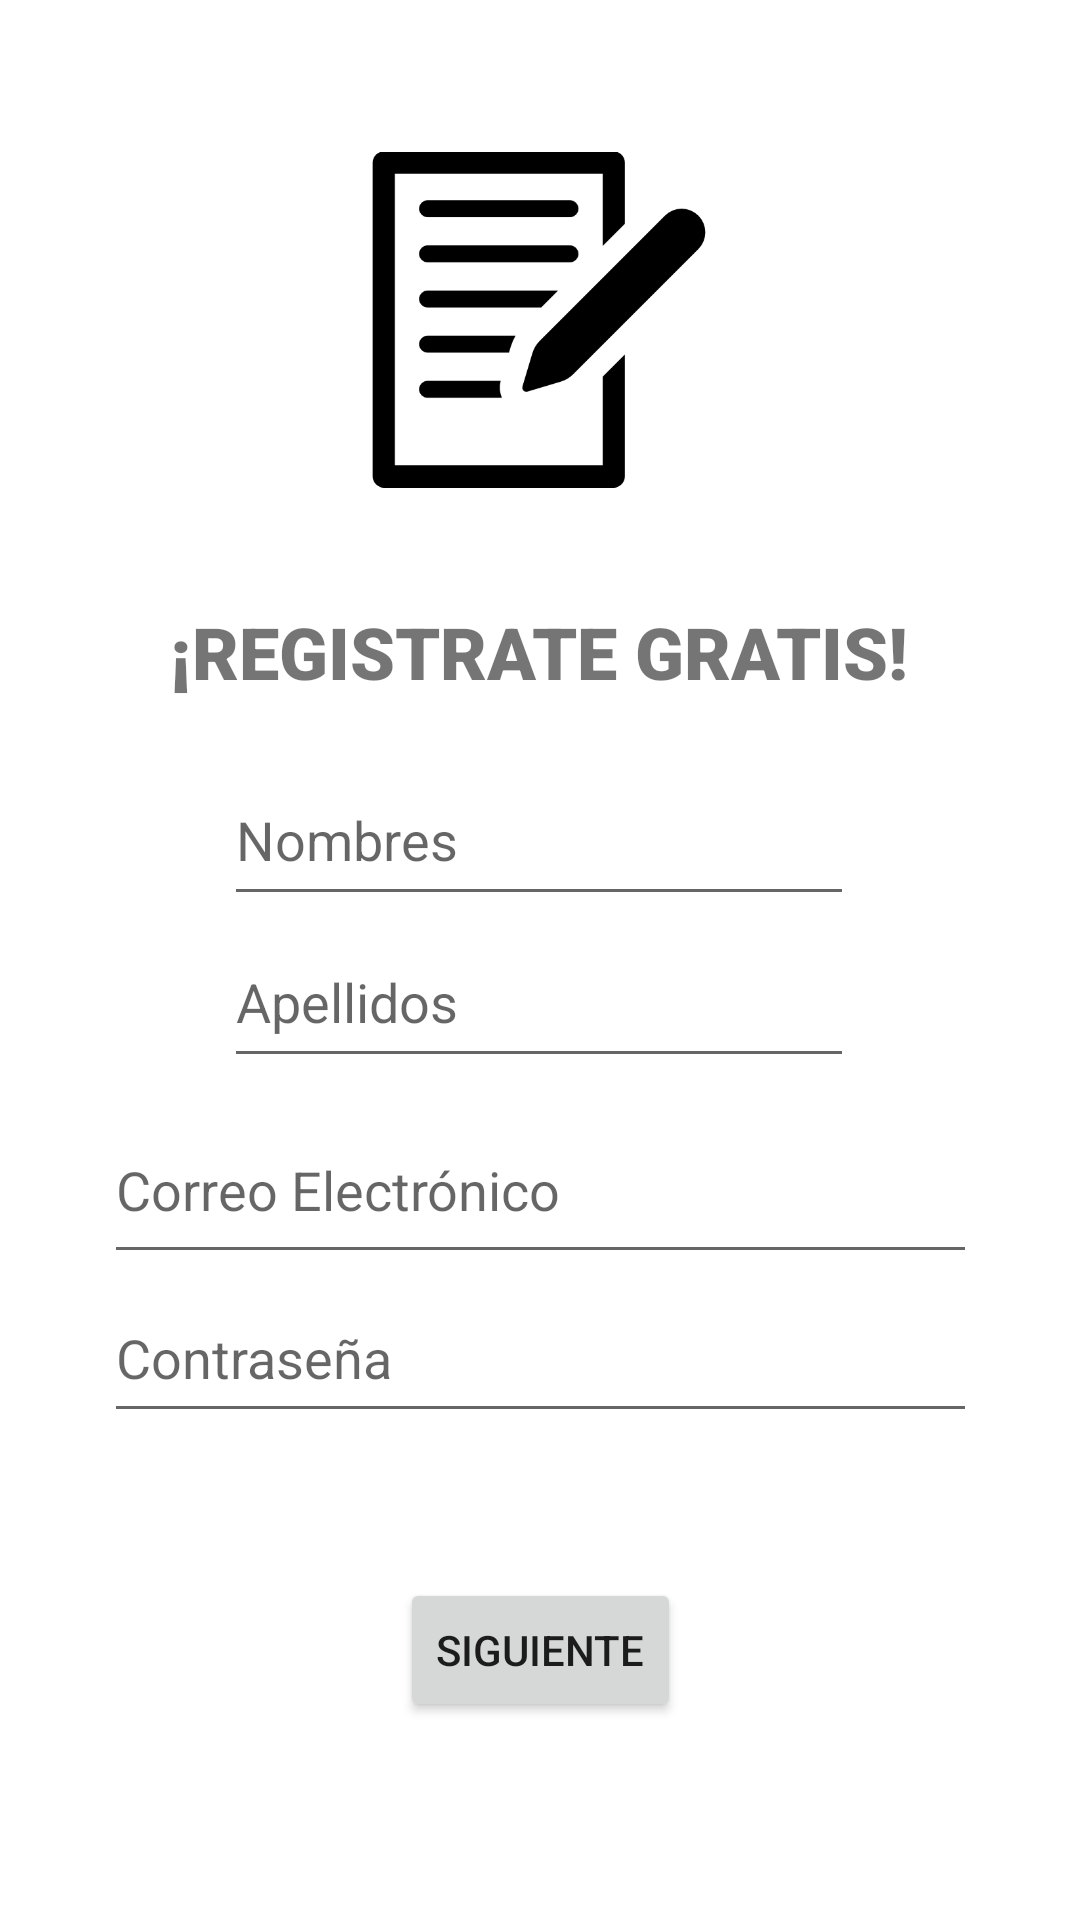

Icons on this 1080 x 1920 Android screen, each with the point to tap as (x,y):
registro: (539,320)
